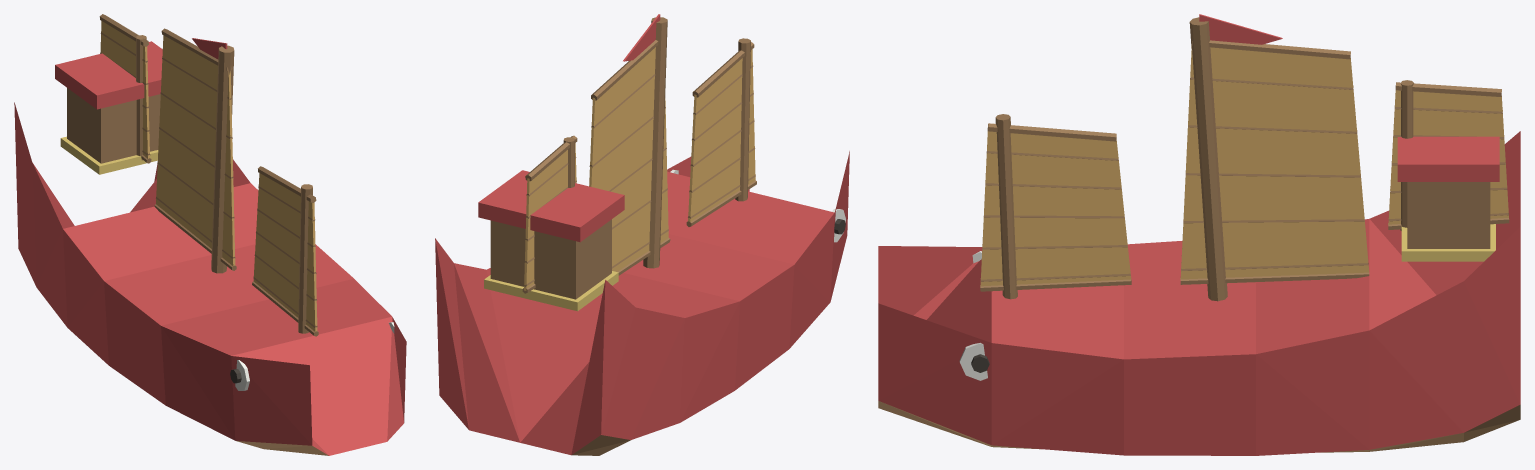
File: Junk.fbx
3 views of the same model, side by side, from view 1: azimuth 30°, elevation 25°; view 2: azimuth 150°, elevation 25°; view 3: azimuth 270°, elevation 25° (orthographic). The views are drawn at different scales.
Visible parts, largest first — view 1: Junk; view 2: Junk; view 3: Junk.
Part boxes in pixels (<box>): Junk: <box>14,14,406,455</box>; Junk: <box>435,14,849,455</box>; Junk: <box>878,14,1520,455</box>.
Size of the model in its own units: 6.93 by 11.05 by 15.92.
